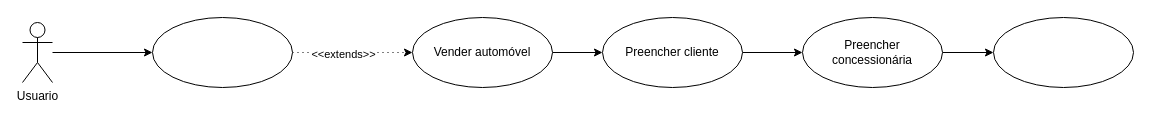
Some shapes in this 1151 by 121 pixel diagram are drawn without their labels. Each missing label, with the box of its shape:
Confirmar venda: (992, 16, 1134, 88)
Selecionar área: (152, 16, 292, 88)
